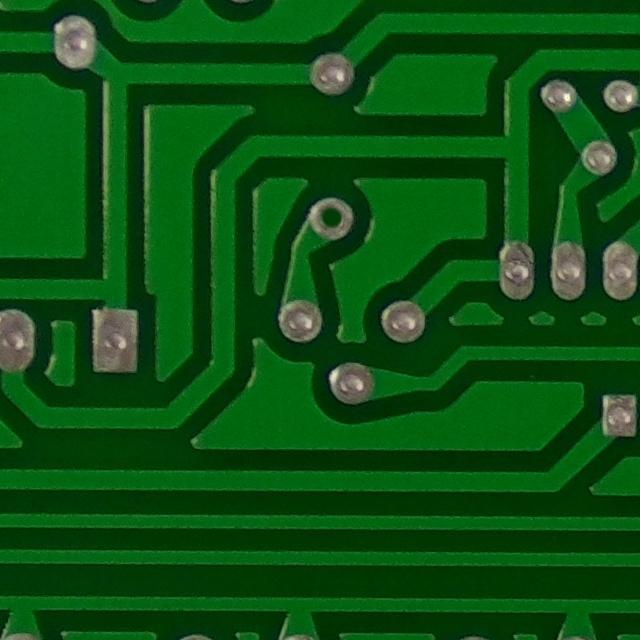missing_hole: (302, 190, 358, 252)
